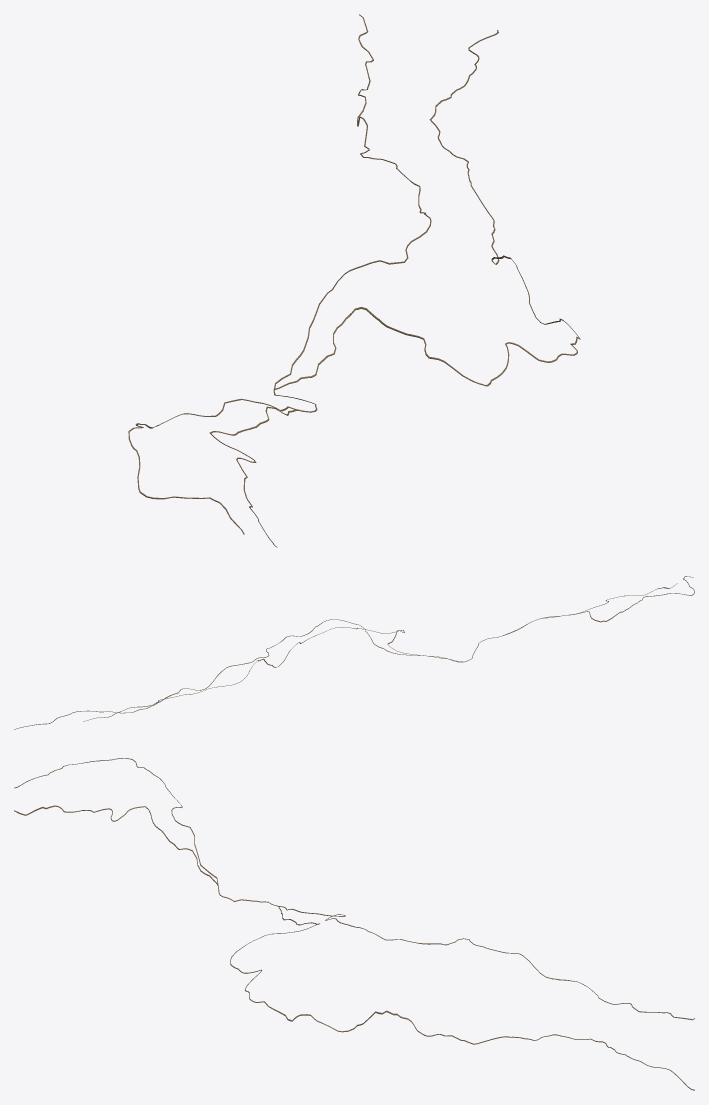
The model's file is 15-27364-14880.fdcbb6e5.glb.
3 views of the same model, one above another, from view 1: azimuth 30°, elevation 25°; view 2: azimuth 150°, elevation 25°; view 3: azimuth 270°, elevation 25° (orthographic). The views are drawn at different scales.
Size of the model in its own units: 1045 by 185 by 1167.
